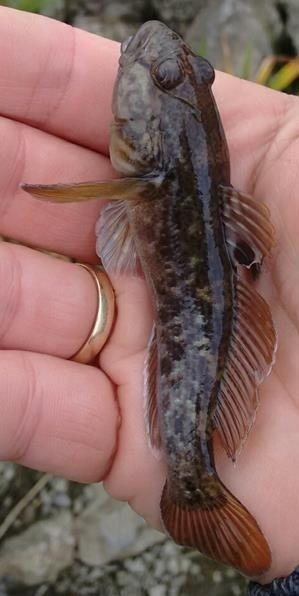Goby: (19, 17, 277, 581)
